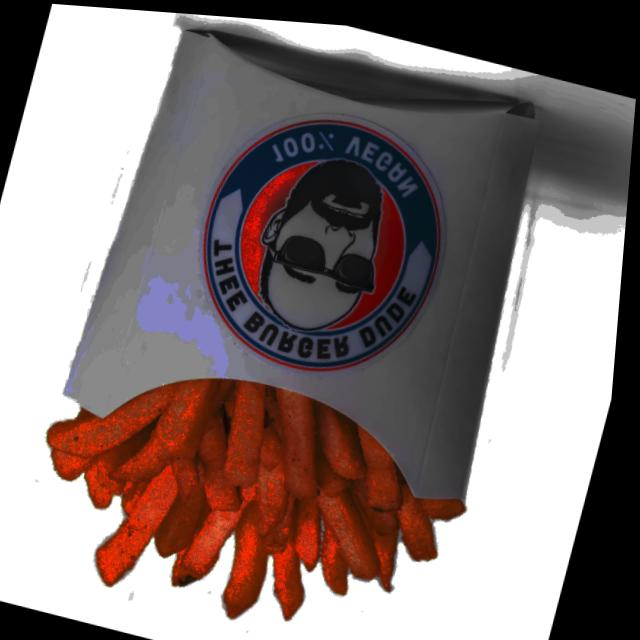french fries: (12, 340, 488, 640)
